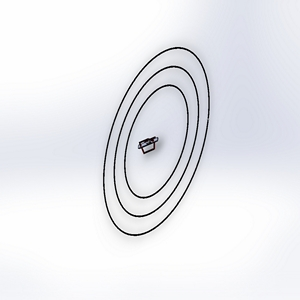circle: (95, 42, 216, 241)
submarine: (135, 134, 163, 158)
